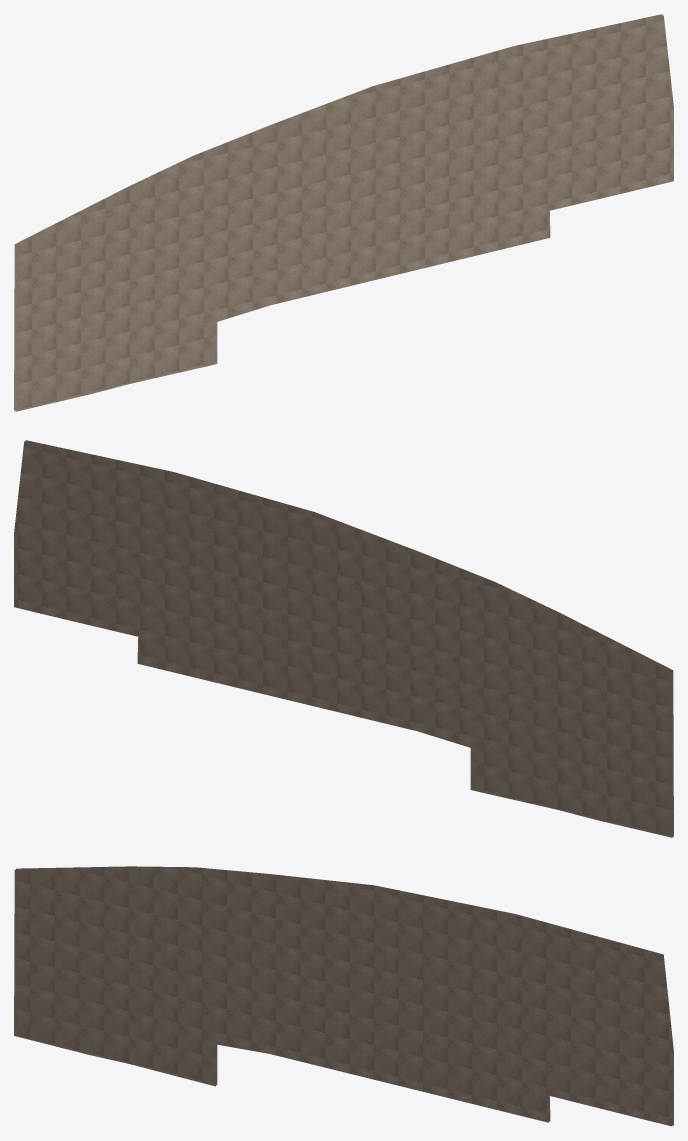
The model's file is floor_21.obj.
3 renders of one model, top to bottom at view 1: azimuth 30°, elevation 25°; view 2: azimuth 150°, elevation 25°; view 3: azimuth 330°, elevation 25°, orthographic.
Visible parts, largest first — view 1: floor_21; view 2: floor_21; view 3: floor_21.
Part boxes in pixels (bbox=[...]): floor_21: bbox=[14, 14, 673, 411]; floor_21: bbox=[14, 440, 673, 837]; floor_21: bbox=[14, 866, 673, 1126].
Size of the model in its own units: 26.82 by 9.5 by 0.1.
1 material, 1 textured.
